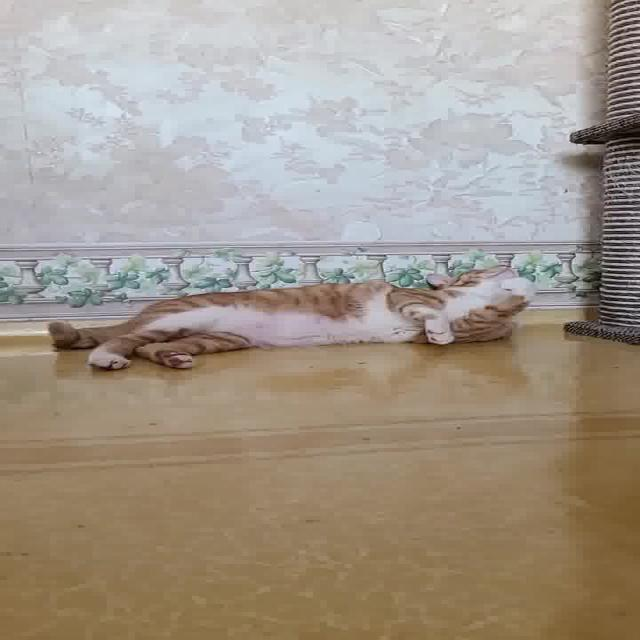cat: (28, 256, 573, 381)
